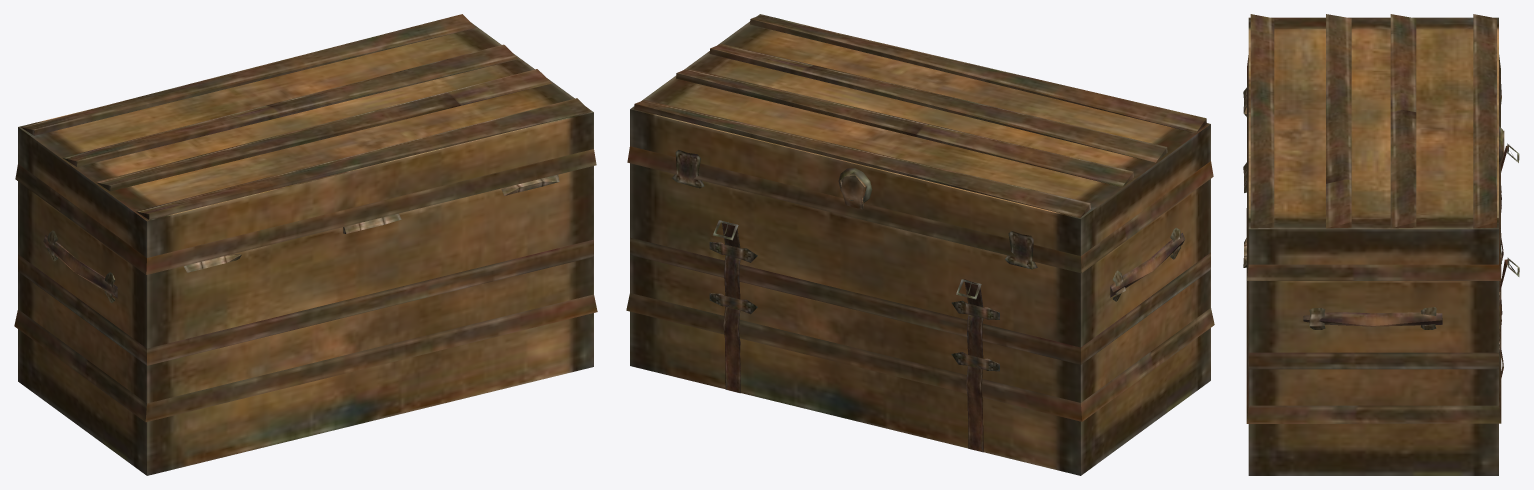
Rendered from trunk-sea-chest.lod1.glb.
3 renders of one model, left to right at view 1: azimuth 30°, elevation 25°; view 2: azimuth 150°, elevation 25°; view 3: azimuth 270°, elevation 25°, orthographic. The views are drawn at different scales.
Visible parts, largest first — view 1: trunk-sea-chest; view 2: trunk-sea-chest; view 3: trunk-sea-chest.
Boxes of the visible parts, x1,y1,x2,y2 form: trunk-sea-chest: (14,14,597,475); trunk-sea-chest: (626,14,1214,475); trunk-sea-chest: (1243,14,1519,475).
Bounding box in the file's own units: 0.9483 × 0.513 × 0.51.
Materials: 1 (1 with a texture image).
